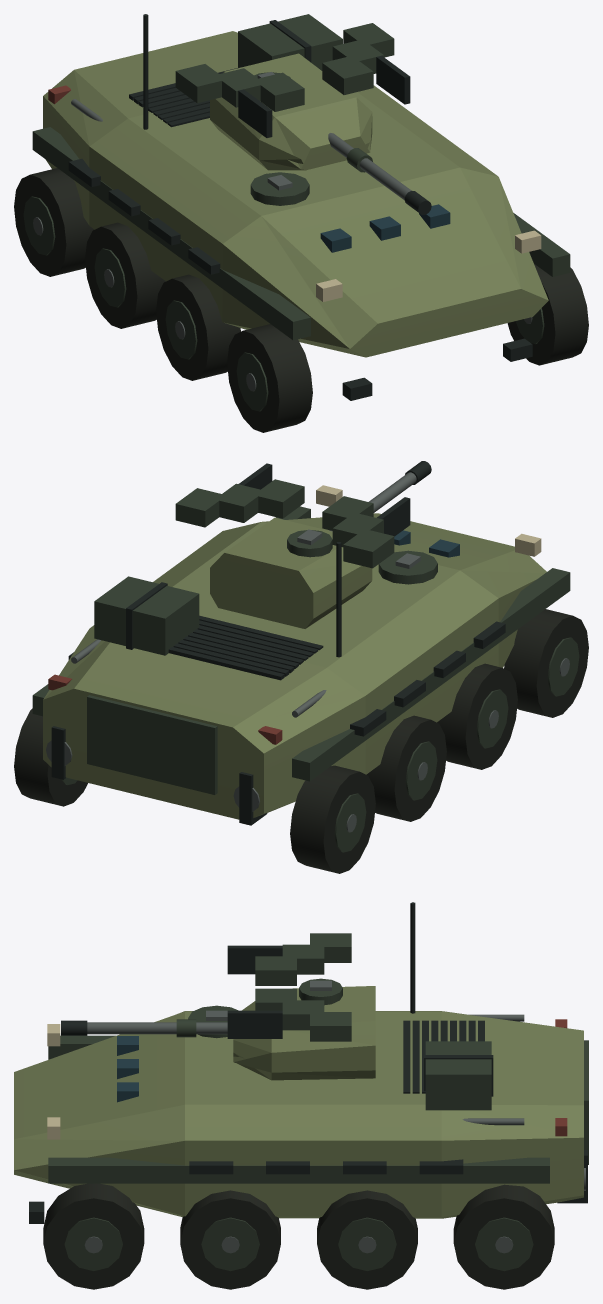
Rendered from apc.glb.
The picture shows the model from 3 angles, top to bottom: view 1: azimuth 30°, elevation 25°; view 2: azimuth 150°, elevation 25°; view 3: azimuth 270°, elevation 25°; orthographic projection. The views are drawn at different scales.
Parts seen in each view (by area): view 1: armor (×2), equipment (×3), glass; view 2: equipment (×3), armor (×2), glass; view 3: armor (×2), equipment (×3), glass.
Part boxes in pixels (x1=…): armor (×2): x1=43, y1=31, x2=548, y2=357; equipment (×3): x1=14, y1=14, x2=588, y2=432; glass: x1=320, y1=204, x2=450, y2=252; equipment (×3): x1=14, y1=461, x2=588, y2=873; armor (×2): x1=43, y1=513, x2=546, y2=819; glass: x1=394, y1=530, x2=459, y2=557; armor (×2): x1=14, y1=986, x2=583, y2=1218; equipment (×3): x1=29, y1=902, x2=588, y2=1289; glass: x1=117, y1=1036, x2=138, y2=1102.
Bounding box in the file's own units: 3.19 × 2.7 × 5.24.
